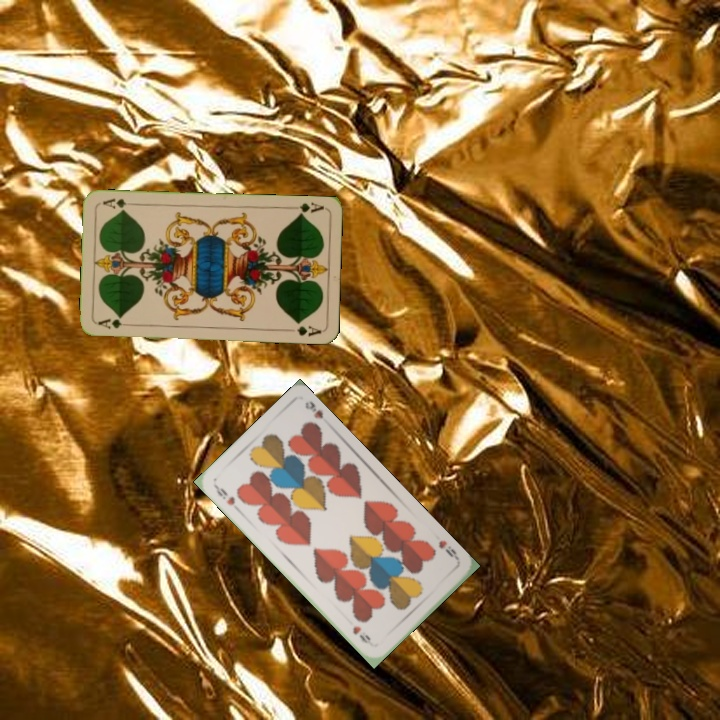GA: (286, 199, 326, 218), (94, 314, 134, 331)
H9: (434, 536, 462, 565), (210, 481, 238, 508)
